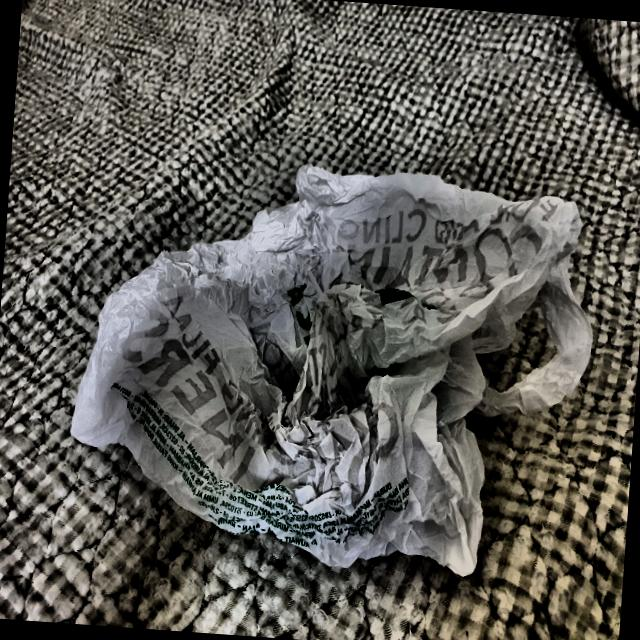plastic bag: (59, 141, 608, 590)
